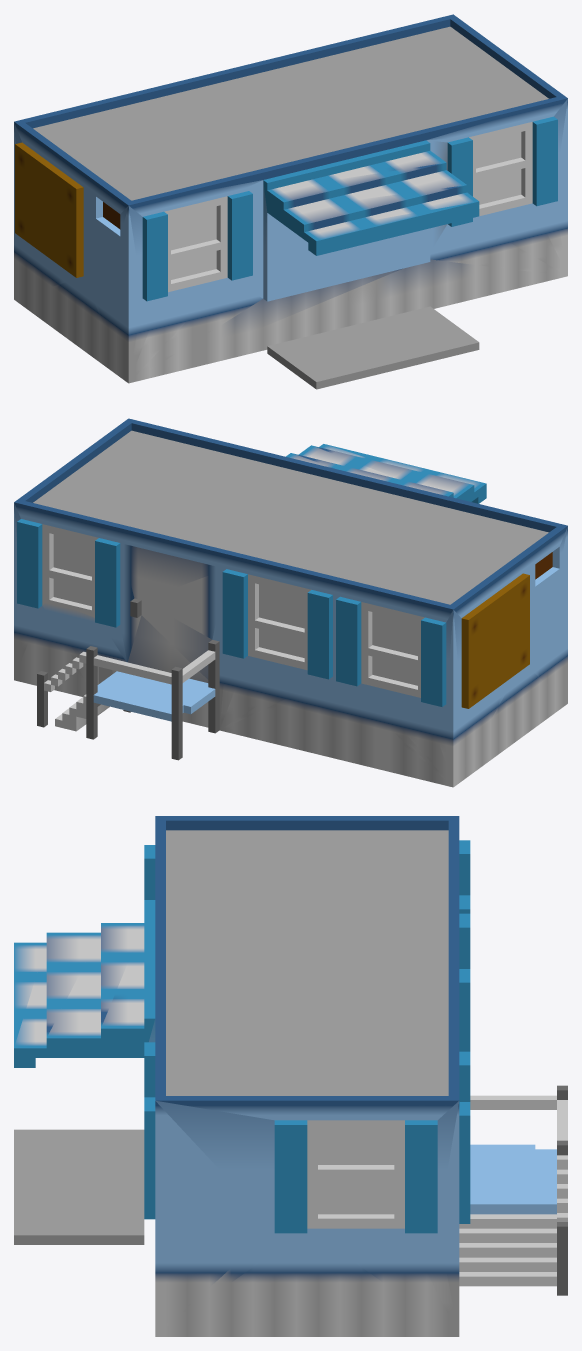
File: obj_house6c.fbx
3 renders of one model, top to bottom at view 1: azimuth 30°, elevation 25°; view 2: azimuth 150°, elevation 25°; view 3: azimuth 270°, elevation 25°, orthographic. The views are drawn at different scales.
Parts seen in each view (by area): view 1: obj_house6c; view 2: obj_house6c; view 3: obj_house6c.
Boxes of the visible parts, x1=… form: obj_house6c: x1=14, y1=14, x2=567, y2=389; obj_house6c: x1=14, y1=418, x2=567, y2=787; obj_house6c: x1=14, y1=816, x2=567, y2=1336.
Size of the model in its own units: 6.4 by 5.1 by 2.4.
1 material, 1 textured.
